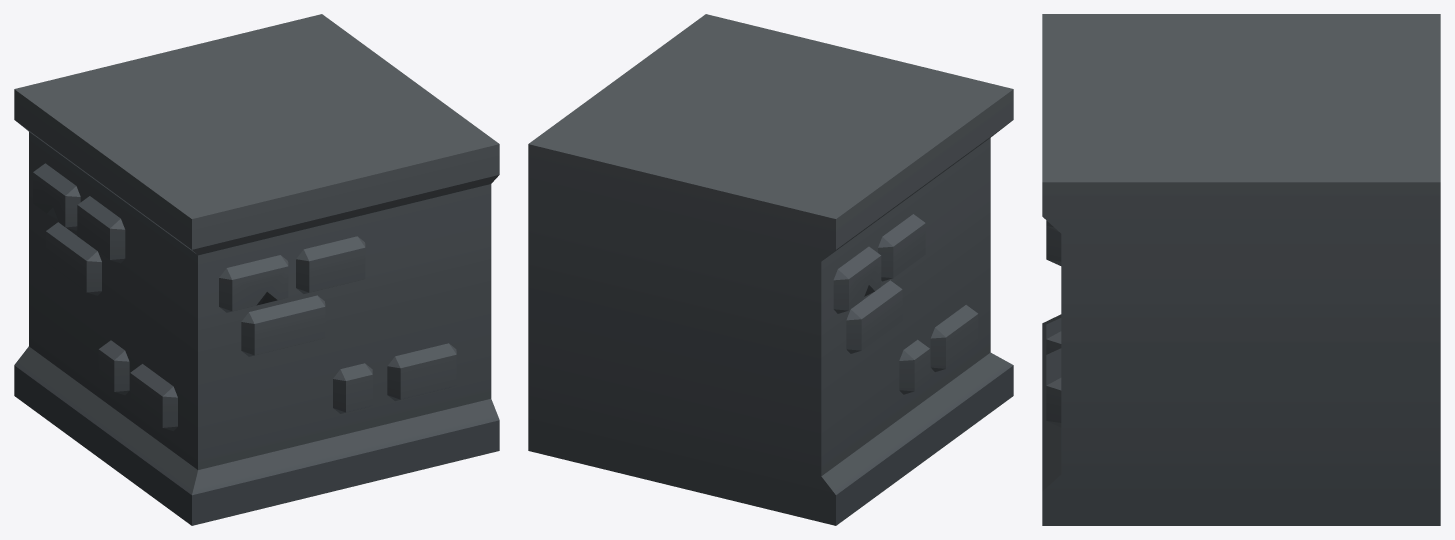
The model's file is floor-foundation-corner-gltf.glb.
3 views of the same model, side by side, from view 1: azimuth 30°, elevation 25°; view 2: azimuth 150°, elevation 25°; view 3: azimuth 270°, elevation 25° (orthographic). The views are drawn at different scales.
Parts seen in each view (by area): view 1: floor_foundation_corner; view 2: floor_foundation_corner; view 3: floor_foundation_corner.
Boxes of the visible parts, x1,y1,x2,y2 form: floor_foundation_corner: (14,14,499,525); floor_foundation_corner: (528,14,1013,525); floor_foundation_corner: (1042,14,1440,525).
Size of the model in its own units: 2.1 by 2 by 2.1.
1 material, 1 textured.
